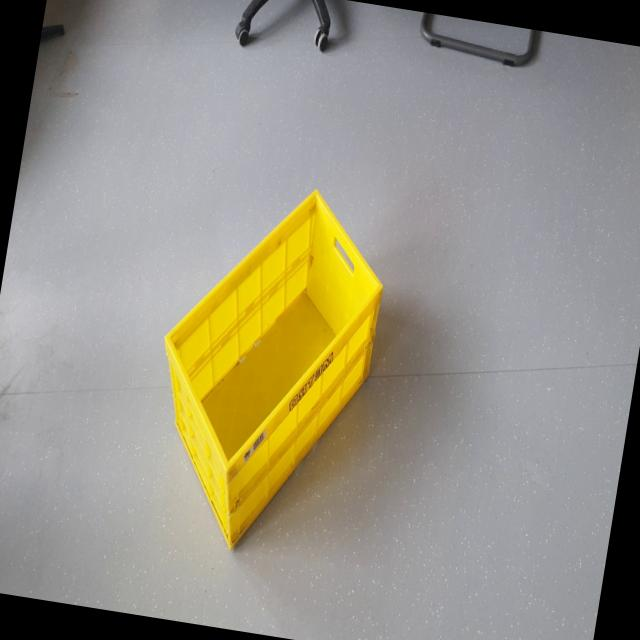box: (125, 134, 418, 599)
